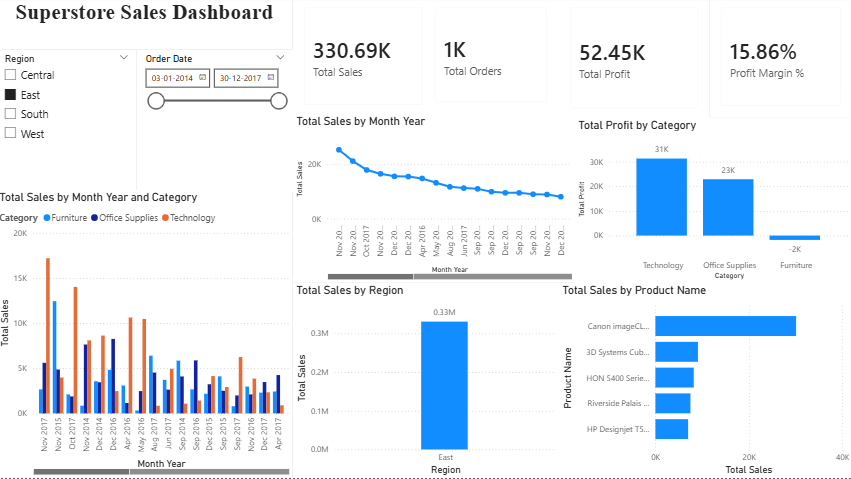

What the dashboard file says about the page in this screenshot:
{"tool":"powerbi","page":{"name":"Page 1","canvas":[1280,720],"ordinal":0},"visuals":[{"type":"cardVisual","fields":{"Data":["Date Table.Total Sales"]},"box":[443.3,0,210,180],"z":0},{"type":"clusteredColumnChart","fields":{"Category":["Date Table.Month Year"],"Series":["Sample - Superstore.Category"],"Y":["Date Table.Total Sales"]},"box":[0,290,443.3,430],"z":1000},{"type":"cardVisual","fields":{"Data":["Sample - Superstore.Total Profit"]},"box":[841.7,0,225,185],"z":2000},{"type":"cardVisual","fields":{"Data":["Date Table.Profit Margin %"]},"box":[1066.7,0,213.3,181.7],"z":3000},{"type":"cardVisual","fields":{"Data":["Date Table.Total Orders"]},"box":[640,0,201.7,176.7],"z":4000},{"type":"lineChart","fields":{"Category":["Date Table.Month Year"],"Y":["Date Table.Total Sales"]},"box":[443.3,176.7,421.7,251.7],"z":5000},{"type":"clusteredColumnChart","fields":{"Category":["Sample - Superstore.Category"],"Y":["Sample - Superstore.Total Profit"]},"box":[865,181.7,415,246.7],"z":6000},{"type":"clusteredColumnChart","fields":{"Category":["Sample - Superstore.Region"],"Y":["Date Table.Total Sales"]},"box":[443.3,428.3,398.3,291.7],"z":7000},{"type":"clusteredBarChart","fields":{"Category":["Sample - Superstore.Product Name"],"Y":["Date Table.Total Sales"]},"box":[841.7,428.3,438.3,291.7],"z":8000},{"type":"textbox","box":[0,0,443.3,80],"z":8001},{"type":"slicer","fields":{"Values":["Sample - Superstore.Region"]},"box":[0,80,210,210],"z":8002},{"type":"slicer","fields":{"Values":["Sample - Superstore.Order Date"]},"box":[210,80,233,210],"z":8003}]}

Visuals, with their boxes in screenshot pixels (x1, y1, x2, y2), scaled from the page's 1280x720 canvas onto the 851x479 screenshot:
cardVisual - Date Table.Total Sales: (295,0,434,120)
clusteredColumnChart - Date Table.Month Year x Sample - Superstore.Category: (0,193,295,478)
cardVisual - Sample - Superstore.Total Profit: (560,0,709,123)
cardVisual - Date Table.Profit Margin %: (709,0,850,121)
cardVisual - Date Table.Total Orders: (426,0,560,118)
lineChart - Date Table.Month Year x Date Table.Total Sales: (295,118,575,285)
clusteredColumnChart - Sample - Superstore.Category x Sample - Superstore.Total Profit: (575,121,850,285)
clusteredColumnChart - Sample - Superstore.Region x Date Table.Total Sales: (295,285,560,478)
clusteredBarChart - Sample - Superstore.Product Name x Date Table.Total Sales: (560,285,850,478)
textbox: (0,0,295,53)
slicer - Sample - Superstore.Region: (0,53,140,193)
slicer - Sample - Superstore.Order Date: (140,53,295,193)
